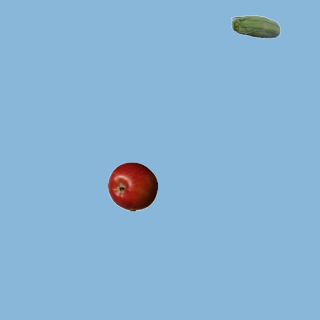Apple Braeburn: (107, 161, 157, 211)
Corn Husk: (230, 3, 280, 53)
